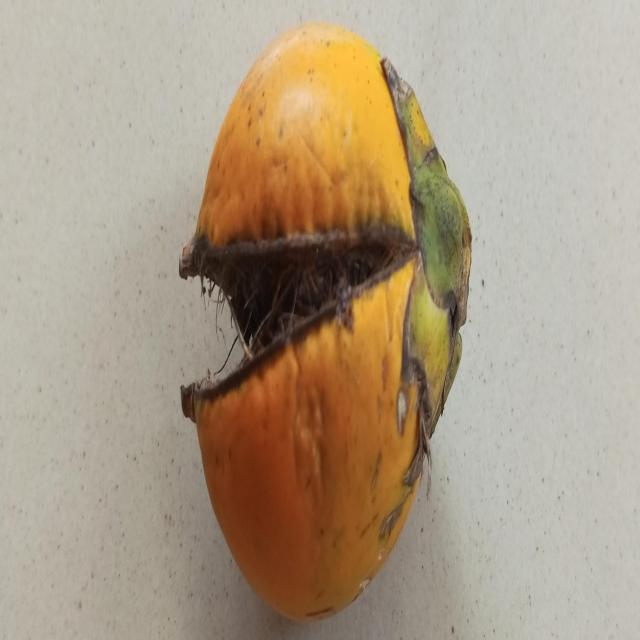damaged: (179, 23, 473, 622)
